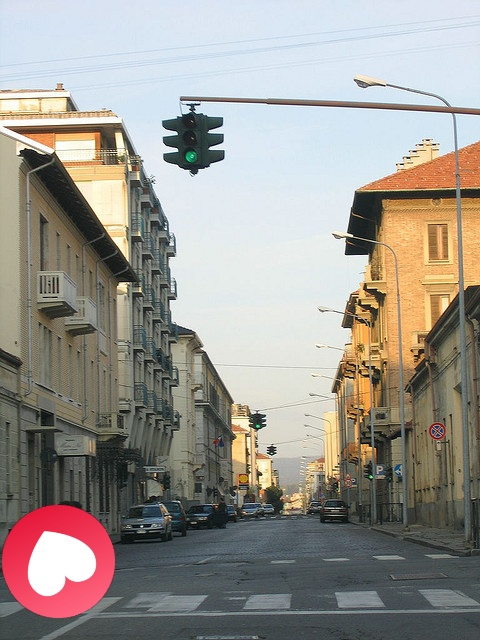love: (2, 505, 115, 618)
